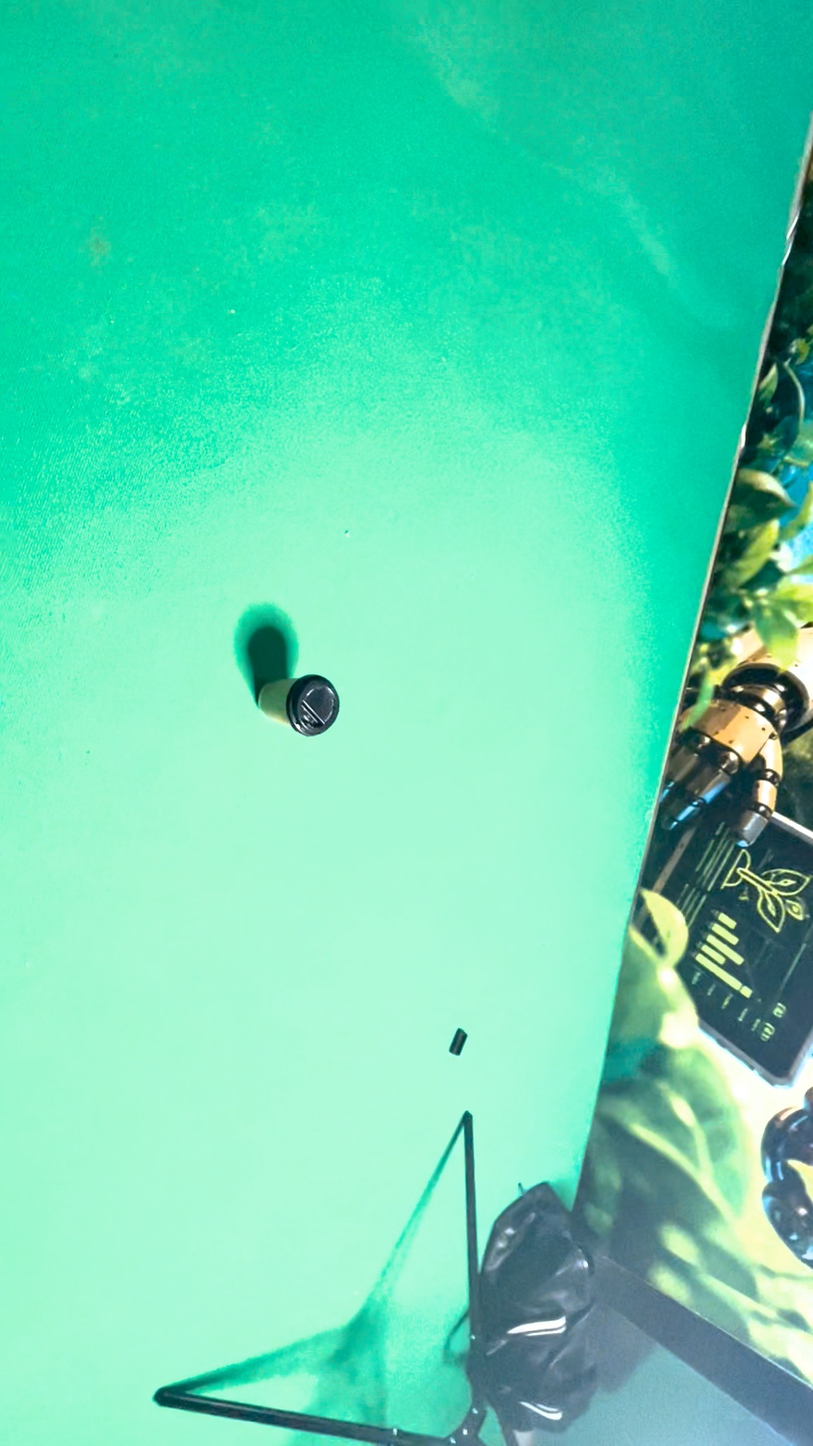cup: (440, 496, 526, 913)
